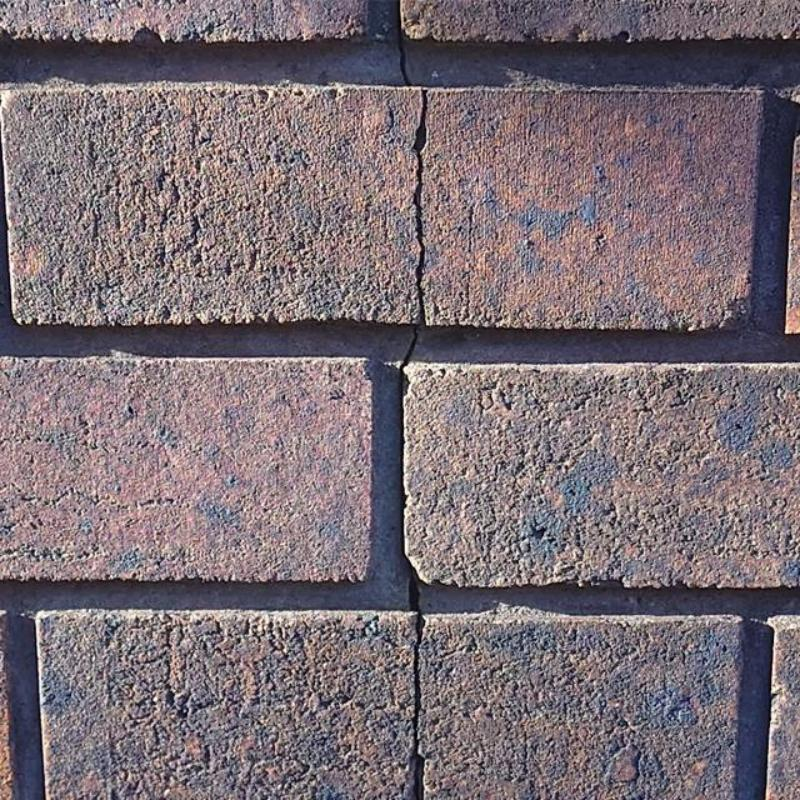pothole: (397, 327, 419, 576), (413, 88, 427, 324), (409, 576, 422, 799), (397, 0, 416, 86)
